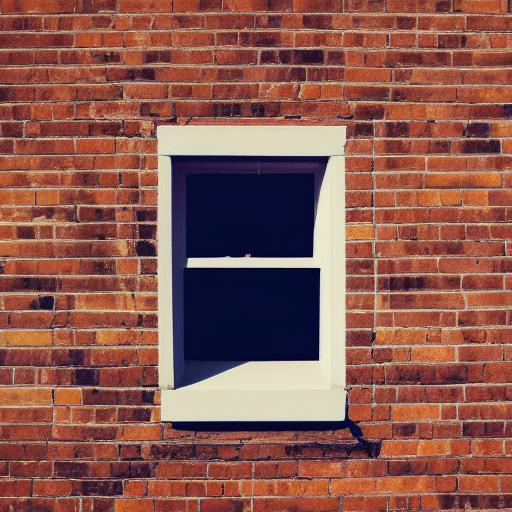Window: (155, 126, 356, 430)
